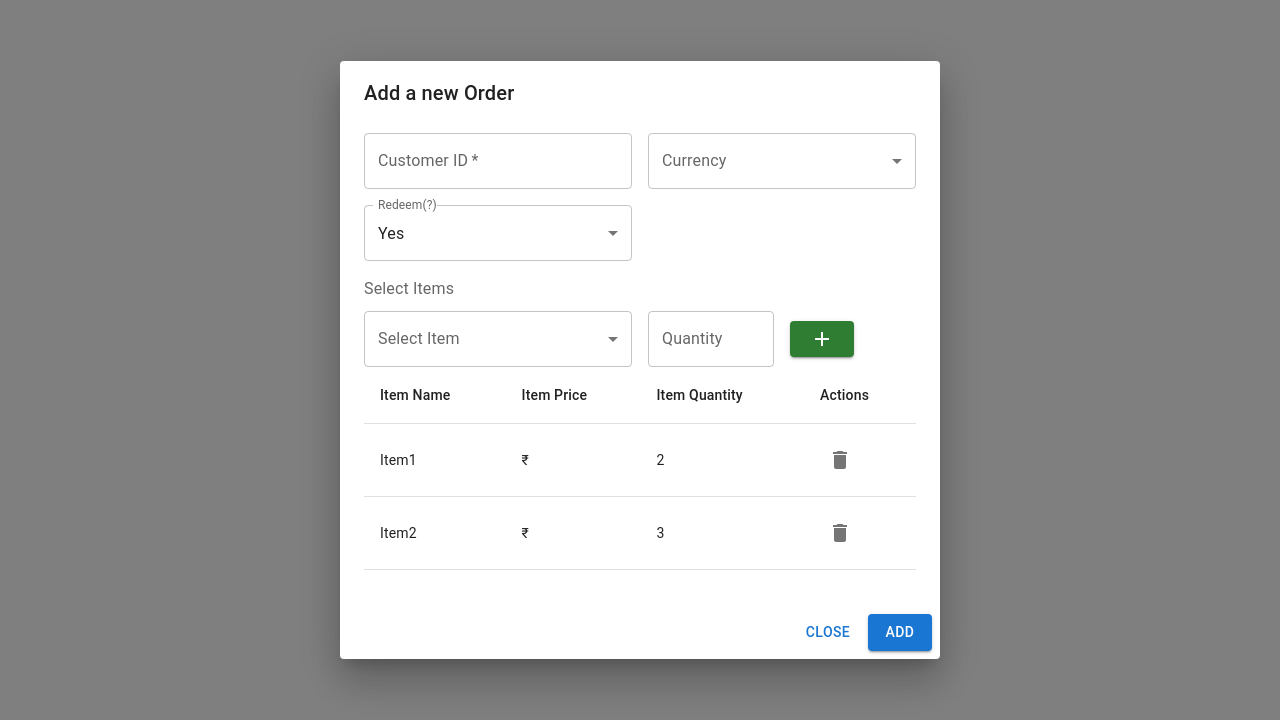
Test: OrderModal Component › displays an error if item is not selected
Check: the dropdown named "Select Item" below "Select Items" is shown, box [364, 311, 632, 367]
Click the button named "Add" at [822, 339], box [790, 321, 854, 357]
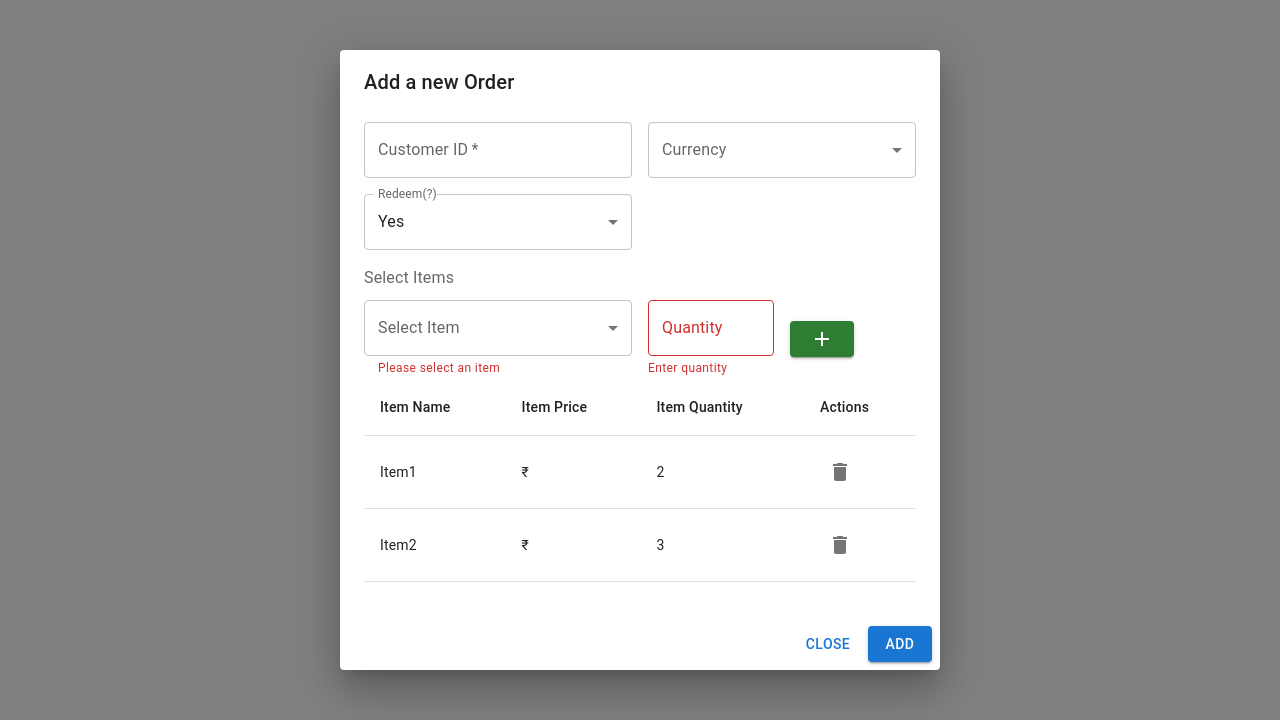
Check: the text "Please select an item" is shown, box [378, 361, 500, 375]
